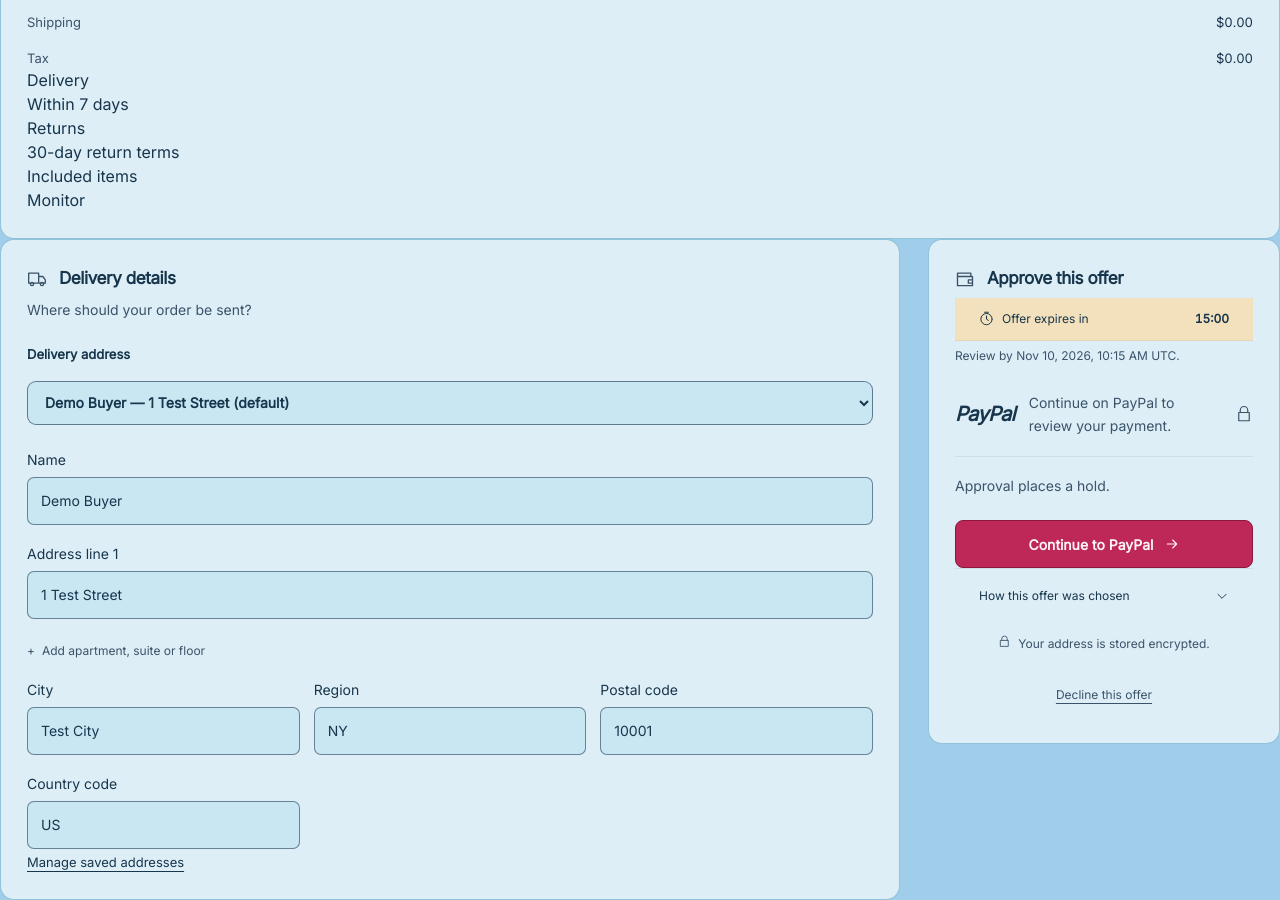
replaces stale checkout controls with the expired offer after a state conflict
The image size is (1280, 900).
(page scrolled)
Expected: the field showing "Demo Buyer" is shown, [27,477,873,525]
Click the button "Continue to PayPal" at (1104, 544), box [955,520,1253,568]
(page scrolled)
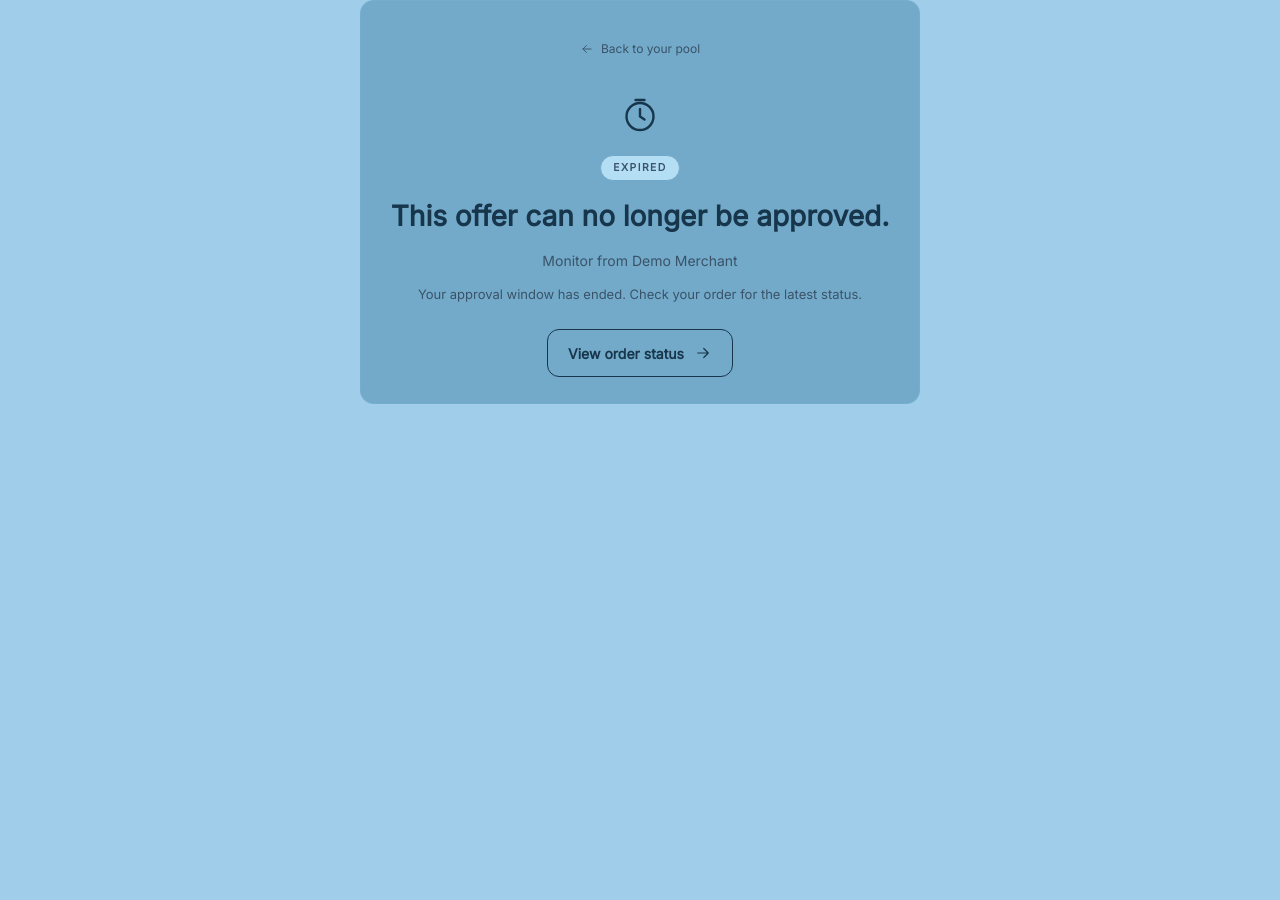
Expected: the heading "This offer can no longer be approved." is shown, [387,195,893,237]
Expected: the button "Continue to PayPal" is gone
